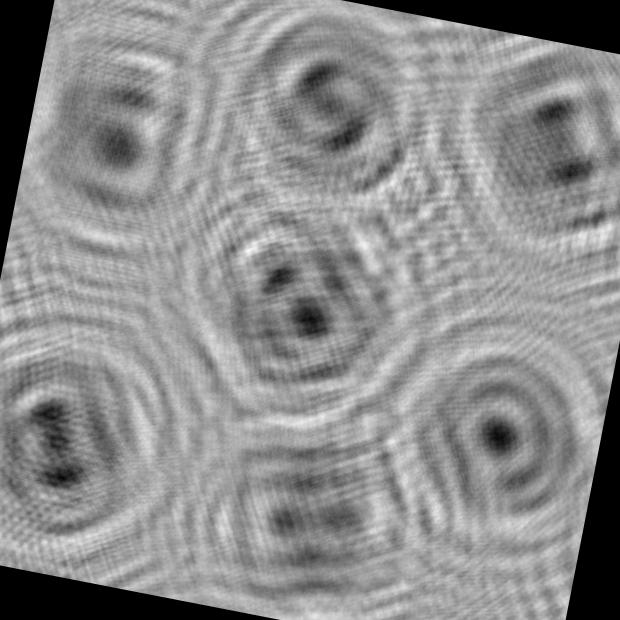B: (0, 285, 223, 599)
E: (413, 23, 620, 295)
F: (6, 0, 275, 291)
H: (161, 365, 465, 620)
P: (340, 289, 620, 597)
R: (145, 148, 469, 468)
S: (182, 0, 480, 251)
